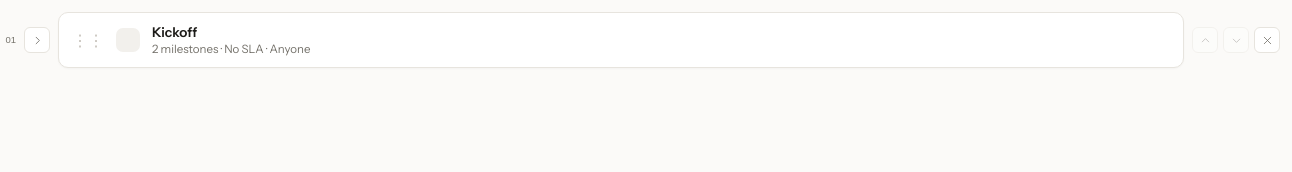
Test: StageRow › expands to show every milestone's name when the expand toggle is clicked
The image size is (1292, 172).
Step 1. Click the button named "Expand stage" → [37, 40], box x1=24 y1=27 x2=50 y2=53
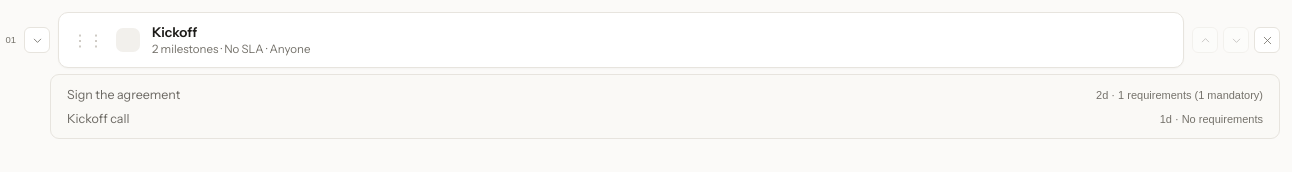
Check: the text "Sign the agreement" is shown, box x1=67 y1=86 x2=180 y2=104
Check: the text "Kickoff call" is shown, box x1=67 y1=110 x2=130 y2=128
